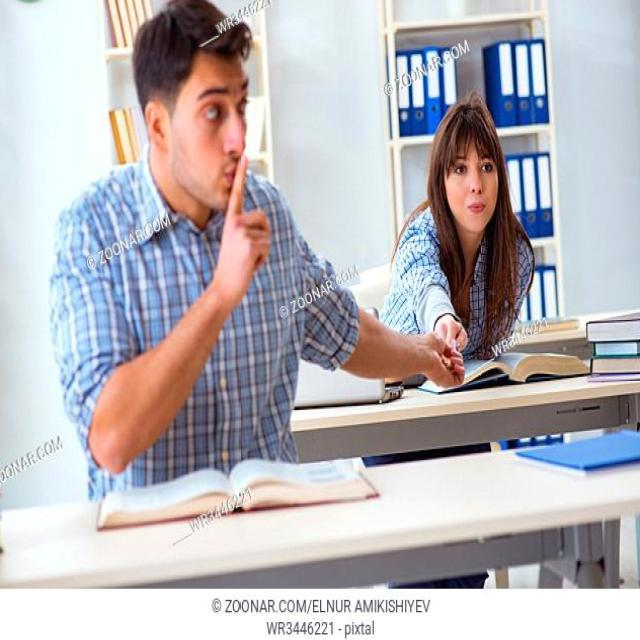cheating: (40, 2, 354, 526), (372, 73, 560, 383), (363, 283, 497, 407)
